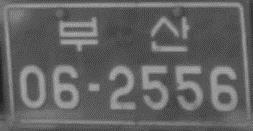-: (85, 80, 102, 95)
0: (18, 63, 46, 111)
2: (108, 64, 137, 113)
5: (174, 63, 205, 112), (140, 63, 170, 111)
6: (208, 64, 238, 113), (50, 63, 80, 111)
부산_D: (55, 14, 191, 54)
